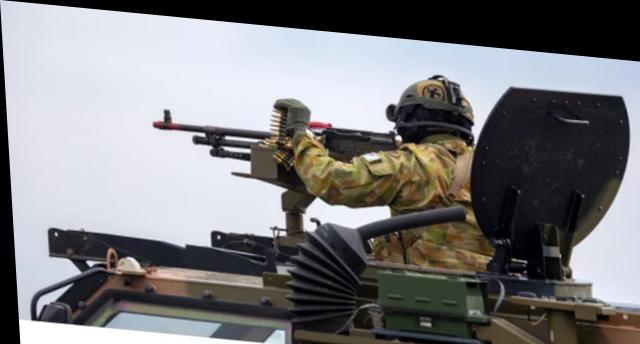other: (299, 68, 483, 240)
tank: (28, 197, 640, 342)
